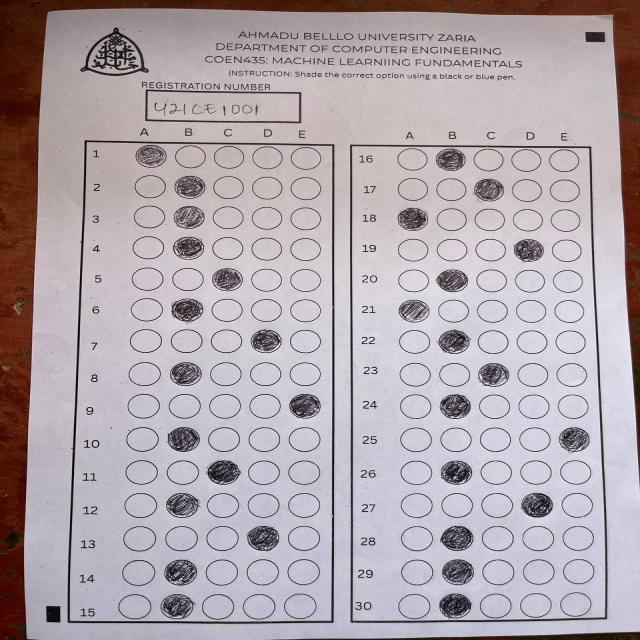bubble: (165, 492, 201, 518), (160, 593, 195, 619), (164, 559, 198, 585), (167, 426, 201, 452), (246, 525, 280, 551), (520, 492, 554, 518), (440, 525, 474, 551), (438, 593, 472, 618), (558, 426, 590, 452), (442, 558, 474, 584), (206, 460, 240, 484), (478, 362, 510, 387), (438, 329, 470, 354), (173, 206, 206, 230), (170, 298, 203, 322), (134, 145, 168, 168), (170, 362, 202, 386), (250, 329, 282, 353), (289, 394, 321, 418), (436, 268, 468, 292), (439, 394, 471, 418), (440, 460, 472, 484), (397, 207, 428, 231), (173, 236, 205, 259), (211, 268, 243, 291), (474, 178, 504, 202), (514, 238, 544, 262), (399, 299, 430, 322), (174, 176, 206, 198), (436, 148, 465, 171)
